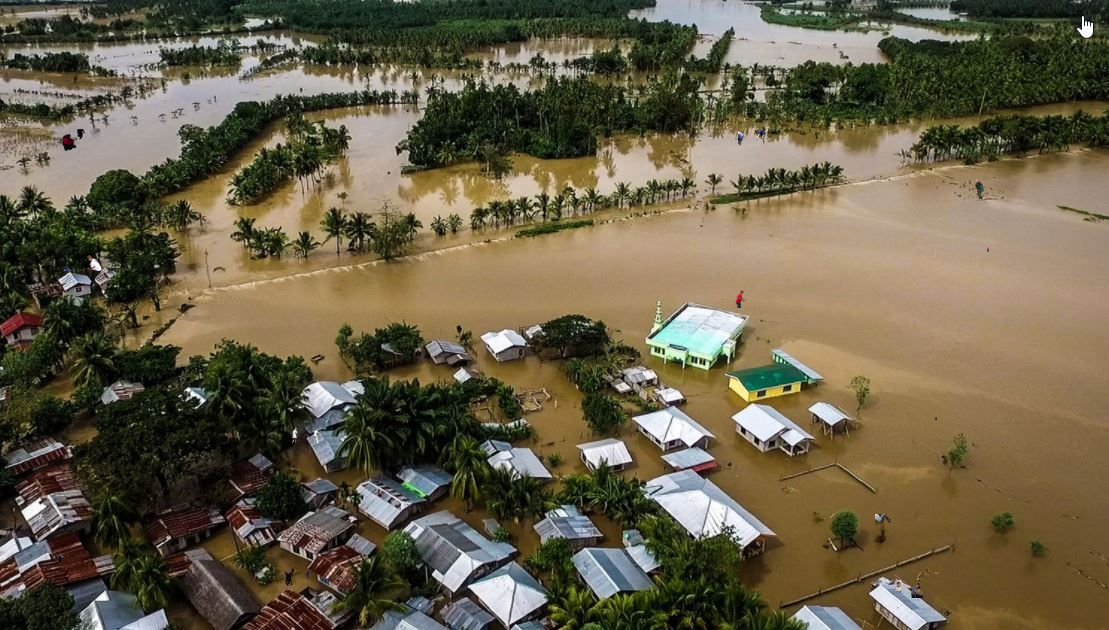Human: (86, 255, 102, 287), (62, 129, 85, 151), (583, 560, 607, 581), (284, 570, 315, 586), (292, 428, 321, 445), (735, 290, 762, 308), (738, 129, 766, 146), (895, 582, 923, 598), (875, 514, 891, 528), (975, 179, 986, 199), (55, 553, 63, 562), (220, 155, 228, 163), (63, 266, 71, 272), (536, 111, 541, 117), (986, 246, 989, 252), (700, 34, 703, 39), (958, 433, 963, 436), (934, 417, 937, 421), (174, 438, 176, 441), (577, 159, 578, 163), (897, 607, 899, 609), (385, 0, 386, 3)
